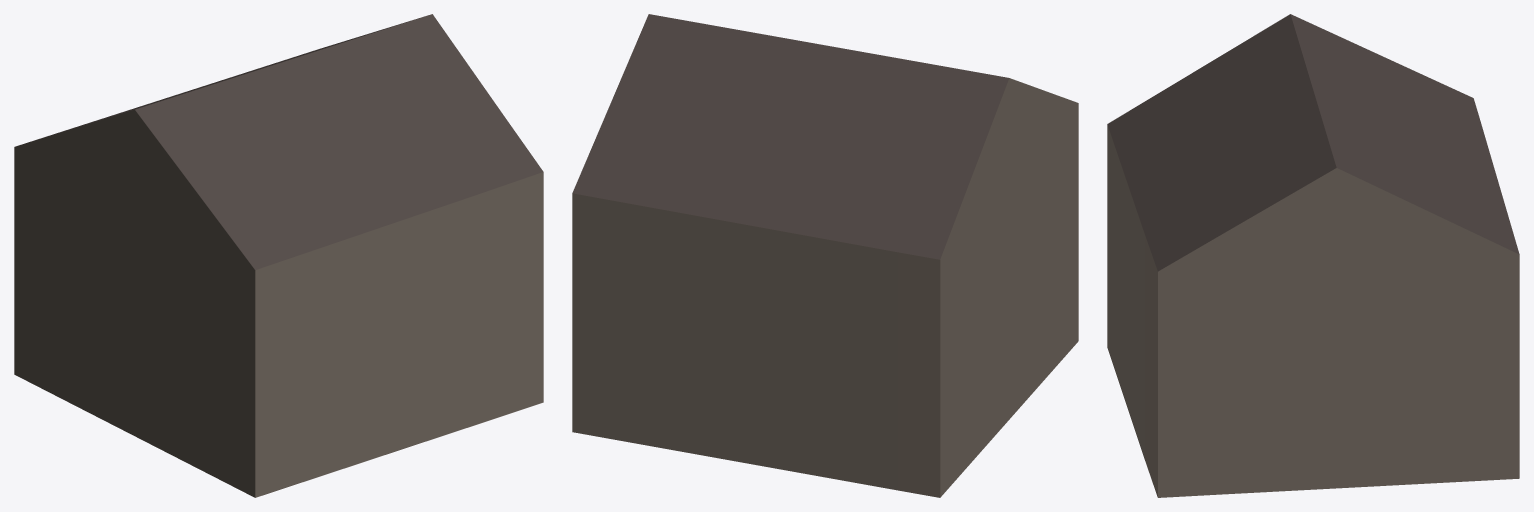
The picture shows the model from 3 angles, left to right: view 1: azimuth 30°, elevation 25°; view 2: azimuth 150°, elevation 25°; view 3: azimuth 270°, elevation 25°; orthographic projection. The views are drawn at different scales.
Parts seen in each view (by area): view 1: HP-w1512965847; view 2: HP-w1512965847; view 3: HP-w1512965847.
Boxes of the visible parts, x1,y1,x2,y2 form: HP-w1512965847: (14,14,543,497); HP-w1512965847: (572,14,1078,497); HP-w1512965847: (1107,14,1519,497).
Size of the model in its own units: 10.16 by 8.61 by 10.03.
